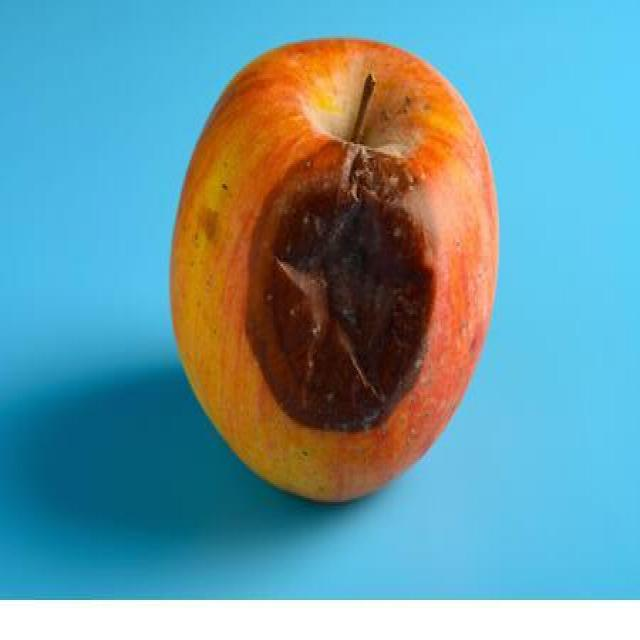Rotten: (168, 33, 501, 506)
